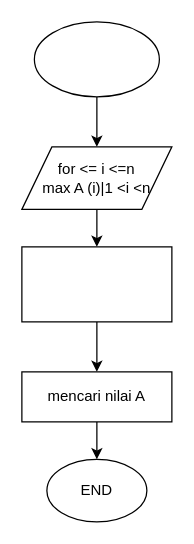
Some shapes in this 194 by 544 pixel diagram are drawn without their labels. The shapes that lost their labels are listed below. From the top down, each one's box as (x1, y1, x2, y2) in pixels, then its label:
(33, 21, 159, 97): START
(21, 246, 172, 322): 1 <= i <=n, A(i)=1 + max A j| 1 < j <i inpit j < input i
